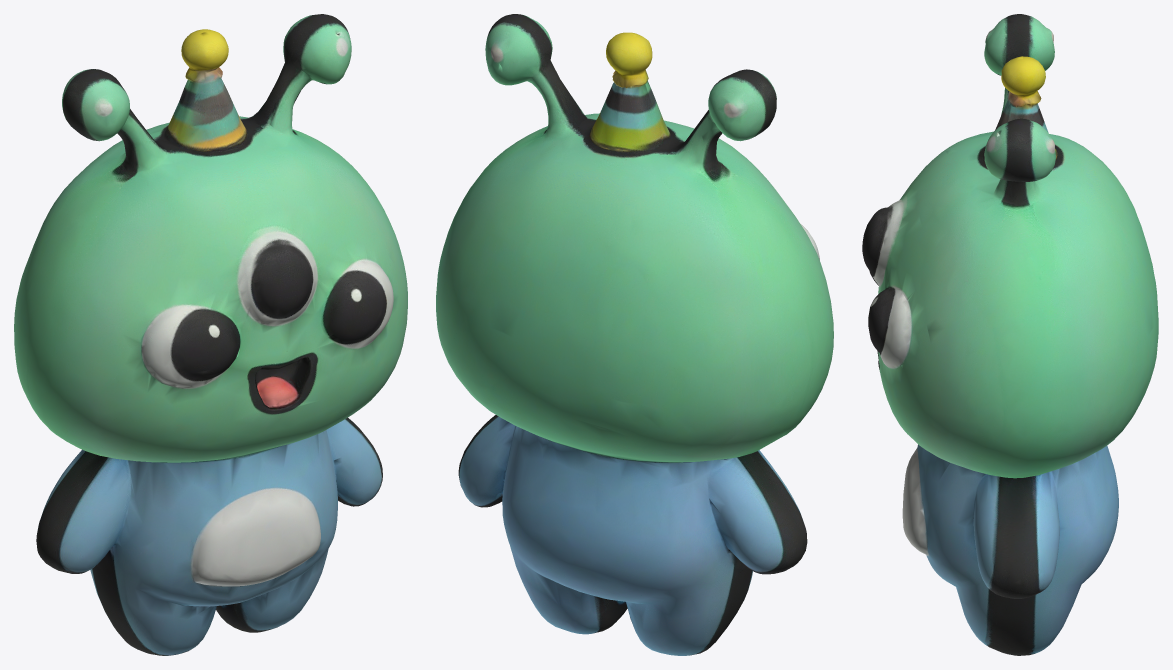
The model's file is hero3d-alien-anim.glb.
The picture shows the model from 3 angles, left to right: view 1: azimuth 30°, elevation 25°; view 2: azimuth 150°, elevation 25°; view 3: azimuth 270°, elevation 25°; orthographic projection. The views are drawn at different scales.
Bounding box in the file's own units: 1.25 × 2 × 0.9464.
Materials: 1 (1 with a texture image).
